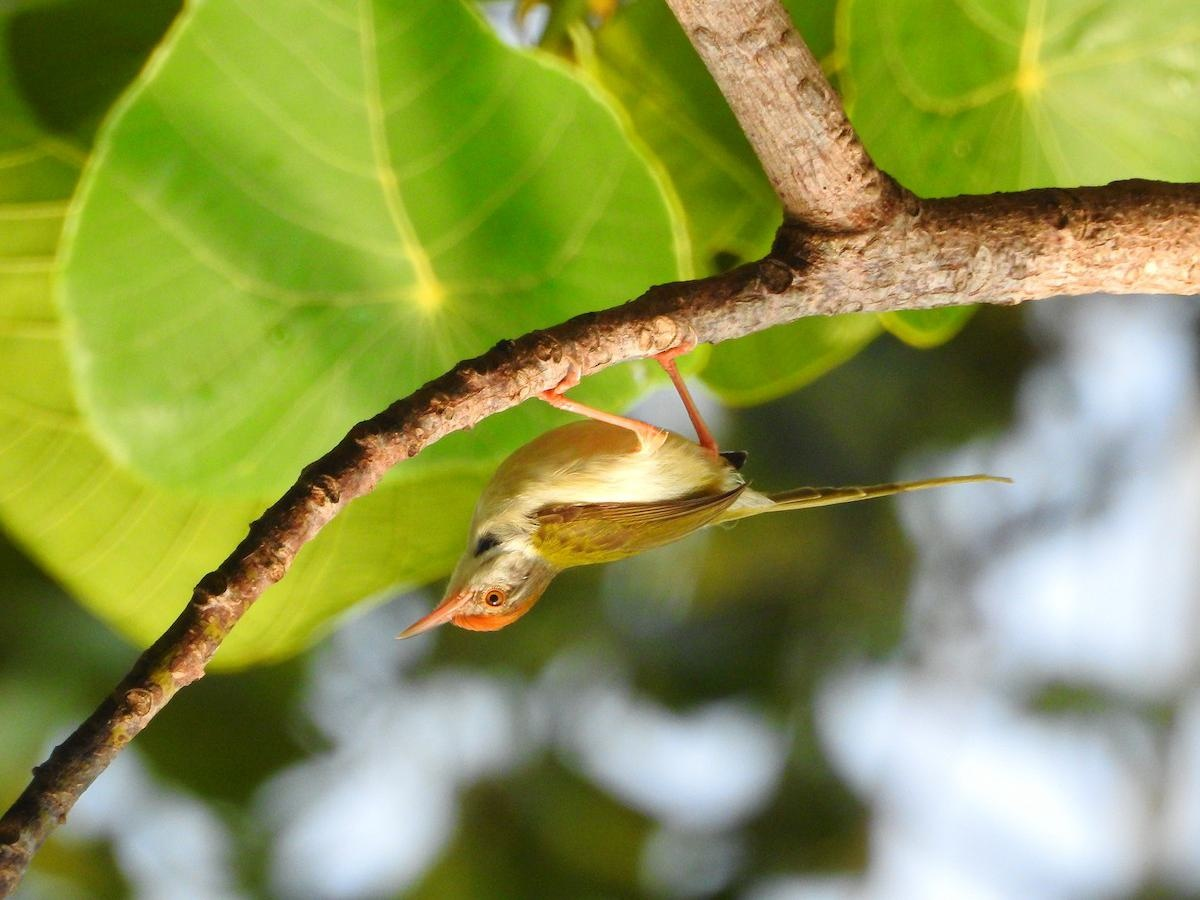tailorbird: (396, 347, 1047, 692)
